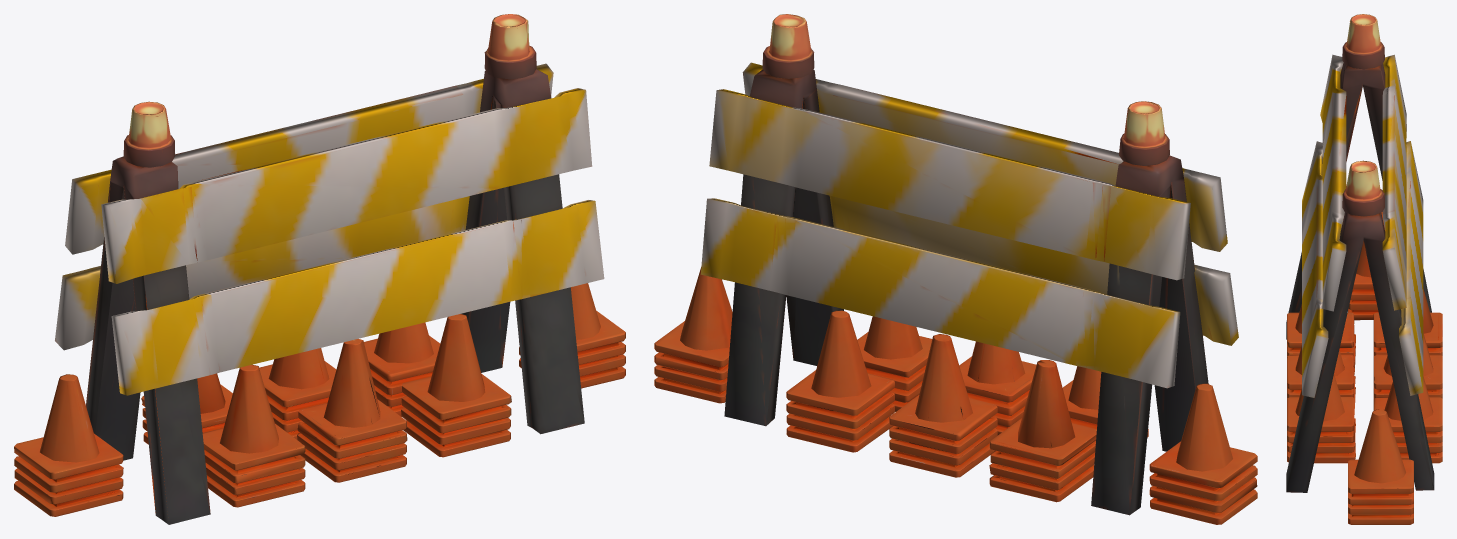
Rendered from 57-police-roadblock.glb.
3 views of the same model, side by side, from view 1: azimuth 30°, elevation 25°; view 2: azimuth 150°, elevation 25°; view 3: azimuth 270°, elevation 25° (orthographic). The views are drawn at different scales.
Visible parts, largest first — view 1: geometry_0; view 2: geometry_0; view 3: geometry_0.
Boxes of the visible parts, left/top/right/bottom form: geometry_0: left=14, top=14, right=625, bottom=524; geometry_0: left=654, top=14, right=1257, bottom=524; geometry_0: left=1286, top=14, right=1442, bottom=524.
Size of the model in its own units: 0.9497 by 0.5933 by 0.2676.
Materials: 1 (1 with a texture image).
